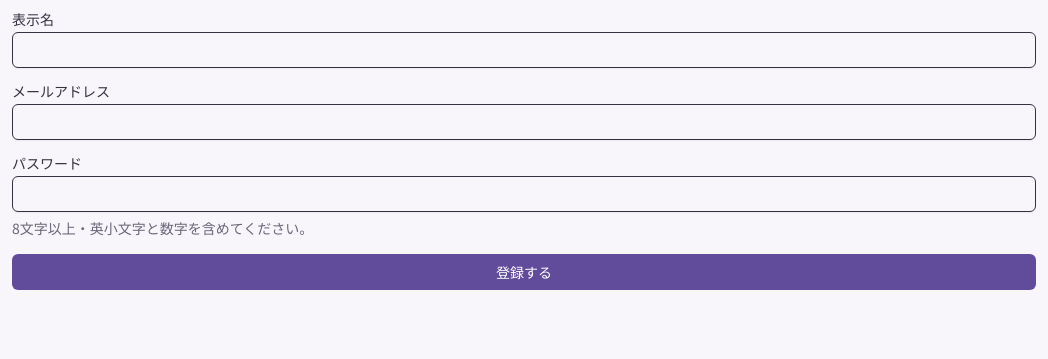
Test case: SignupForm › 未入力のまま送信すると各項目にインラインエラーが表示され、最初のエラー欄にフォーカスが移る（A6/A7）
Click the button "登録する" at (524, 272), box [12, 254, 1036, 290]
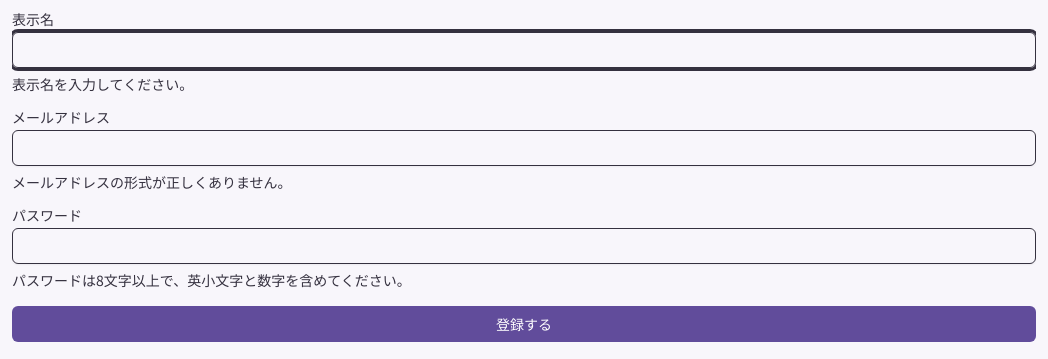
Expected: the text "表示名を入力してください。" is shown, [12, 74, 193, 94]
